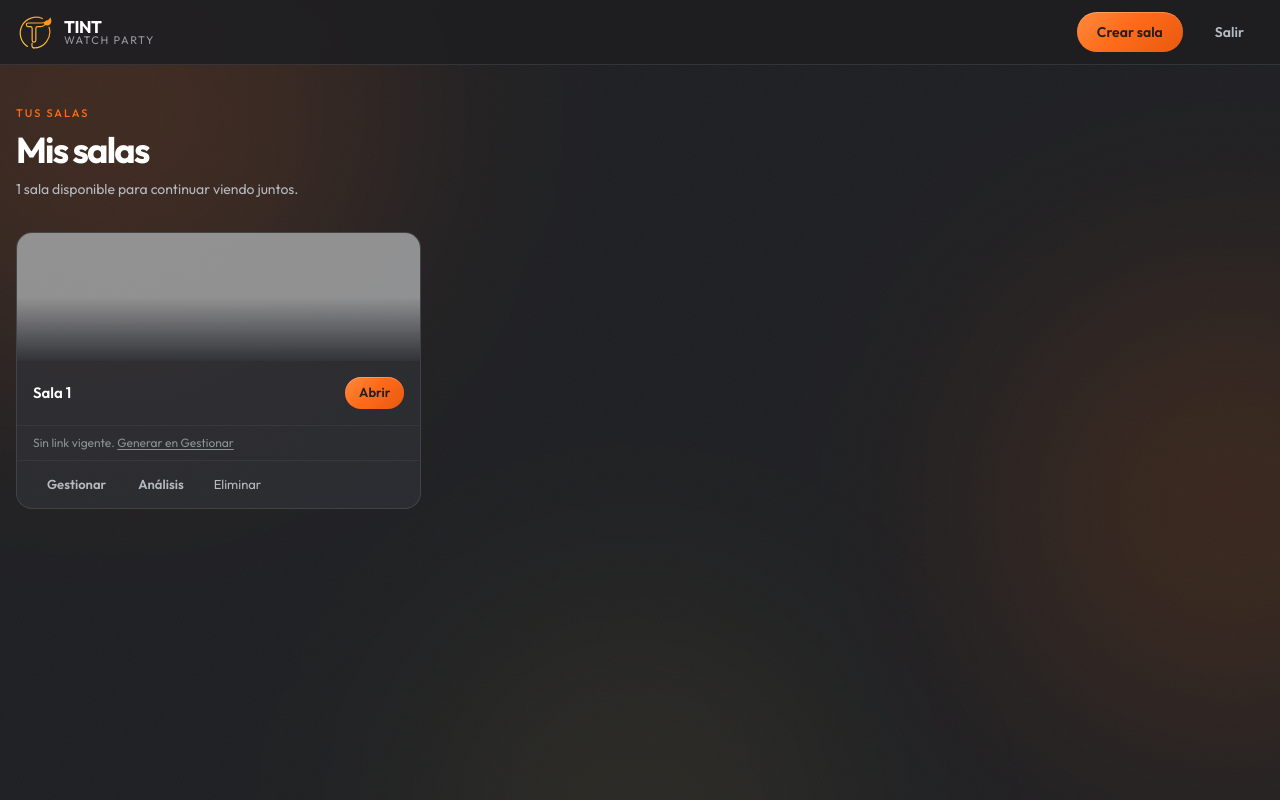
Scenario: Dashboard › muestra error si eliminar falla
Expected: the text "Sala 1" is shown, [33, 382, 71, 404]
Step 1. Click the button with aria-label "eliminar sala 1" → (238, 485), box [202, 469, 273, 500]
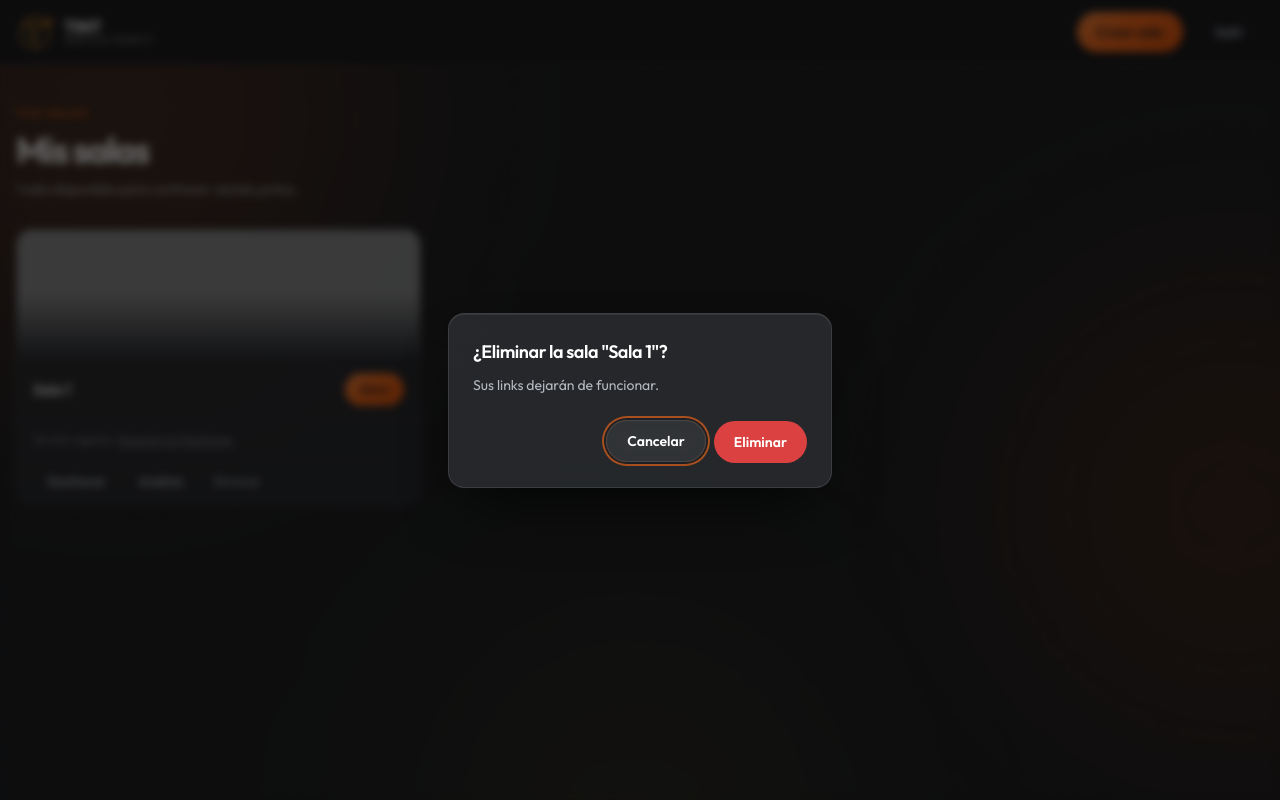
Step 2. Click the button "Eliminar" → (760, 441), box [714, 420, 807, 462]
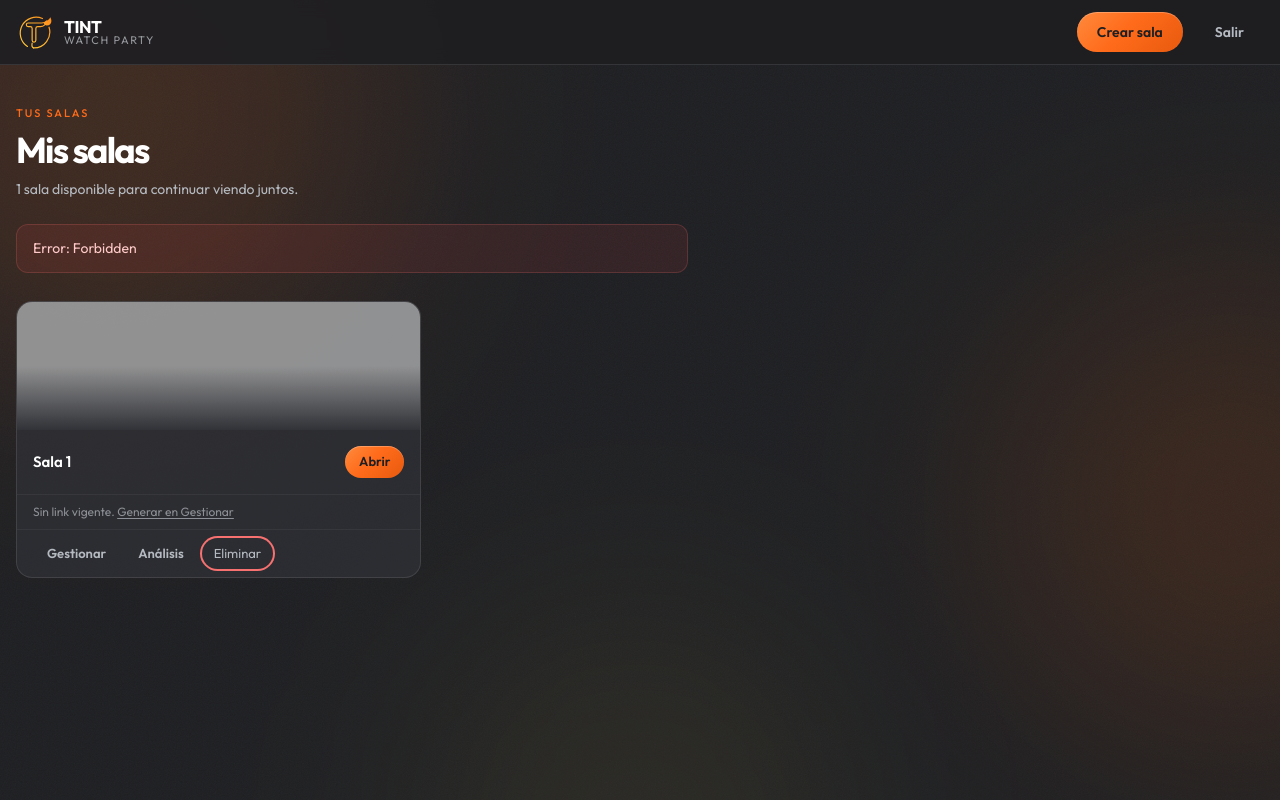
Expected: the text "Sala 1" is shown, [33, 450, 71, 473]
Expected: the message "Error: Forbidden" is shown, [16, 224, 688, 273]
